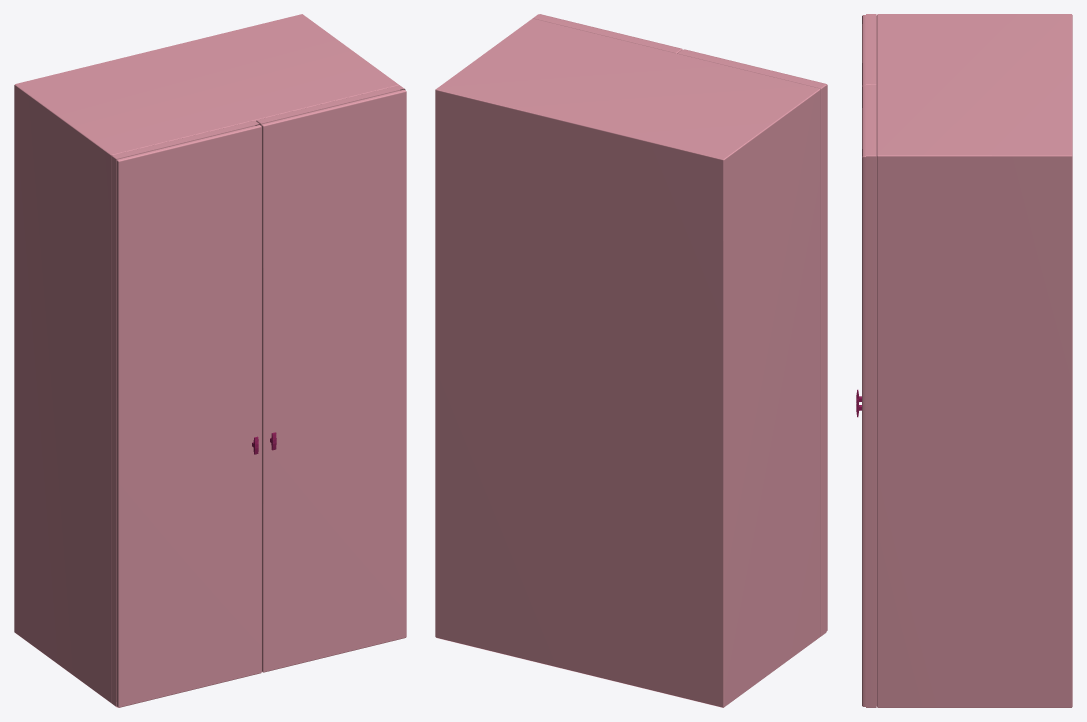
The model's file is armadio_fix.fbx.
3 views of the same model, side by side, from view 1: azimuth 30°, elevation 25°; view 2: azimuth 150°, elevation 25°; view 3: azimuth 270°, elevation 25° (orthographic).
Parts seen in each view (by area): view 1: Mirror.001; view 2: Mirror.001; view 3: Mirror.001.
Part boxes in pixels (box(x1,y1,x2,y2)): Mirror.001: box(14, 14, 406, 707); Mirror.001: box(435, 14, 827, 707); Mirror.001: box(856, 14, 1072, 707).
Size of the model in its own units: 113 by 205 by 72.54.
